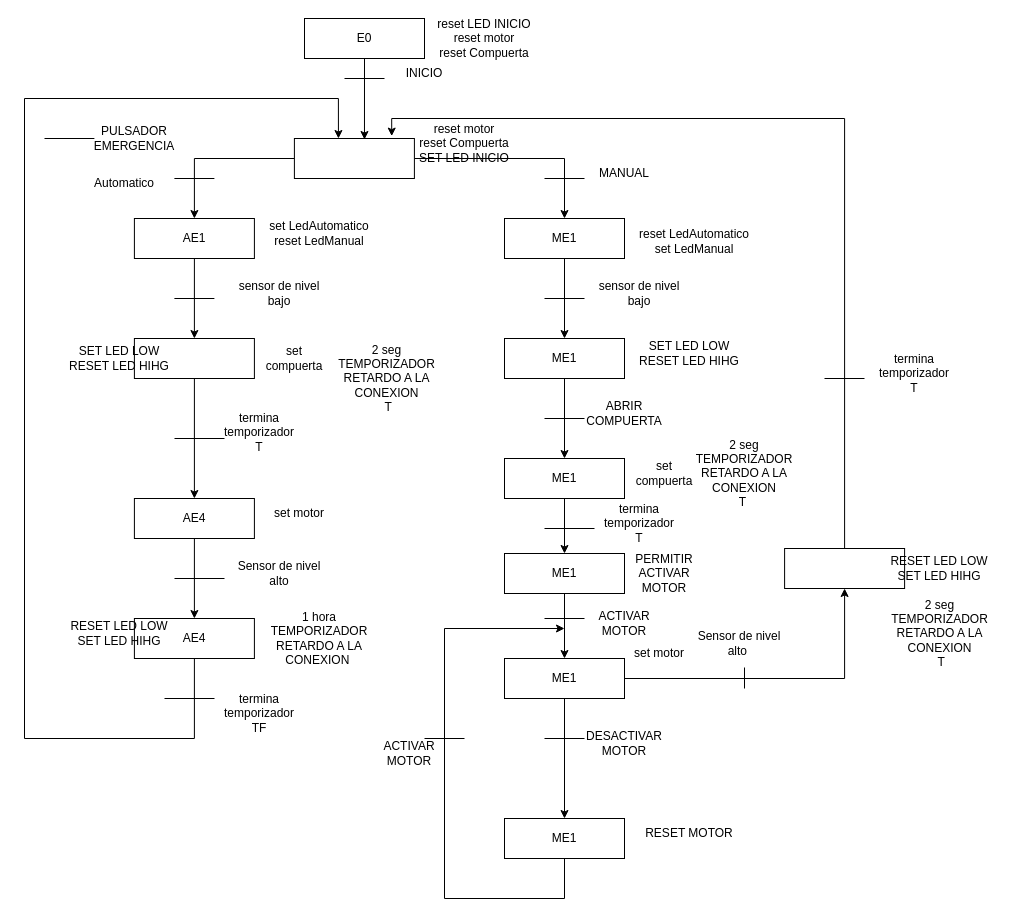
Image size: 1014x924. Some labels were removed from this diagram. Here are the shapes that lost their labels. From the top down, the centre of each, then its label:
At (x=353, y=158): "E1".
At (x=193, y=358): "AE2".
At (x=844, y=568): "AE3".
